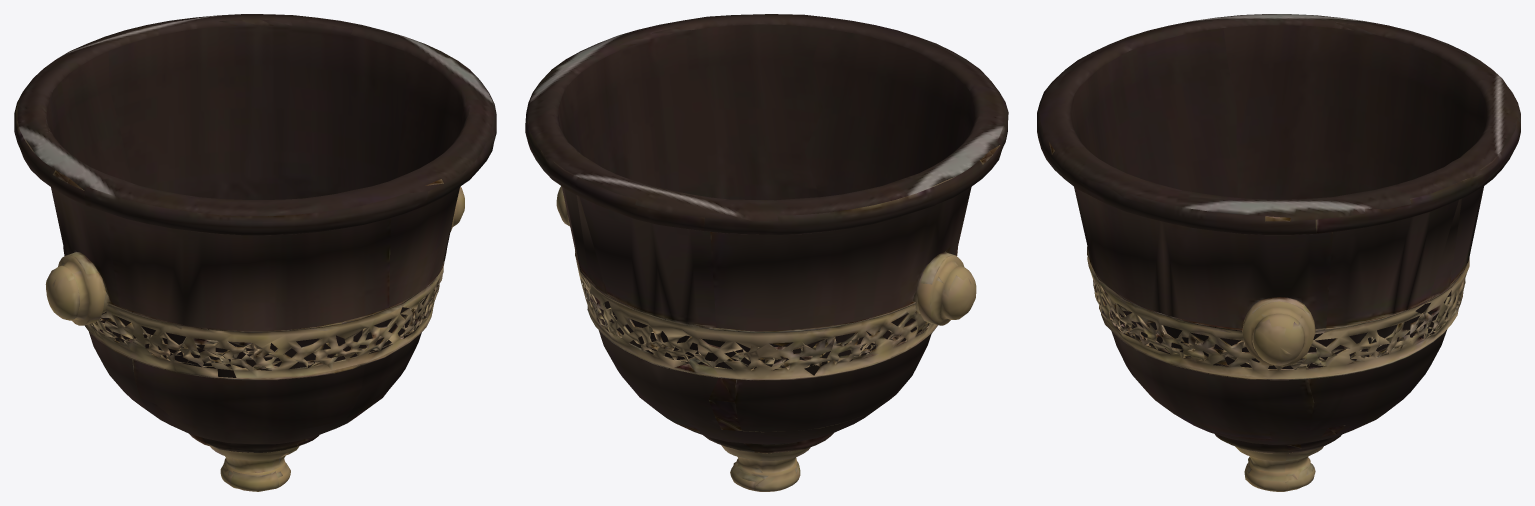
The model's file is shell.glb.
3 renders of one model, left to right at view 1: azimuth 30°, elevation 25°; view 2: azimuth 150°, elevation 25°; view 3: azimuth 270°, elevation 25°, orthographic.
Visible parts, largest first — view 1: midway-fit; view 2: midway-fit; view 3: midway-fit.
Boxes of the visible parts, bbox=[...] form: midway-fit: bbox=[14, 14, 496, 491]; midway-fit: bbox=[525, 14, 1008, 491]; midway-fit: bbox=[1037, 14, 1520, 491].
Bounding box in the file's own units: 1 × 0.8392 × 0.9964.
1 material, 1 textured.
